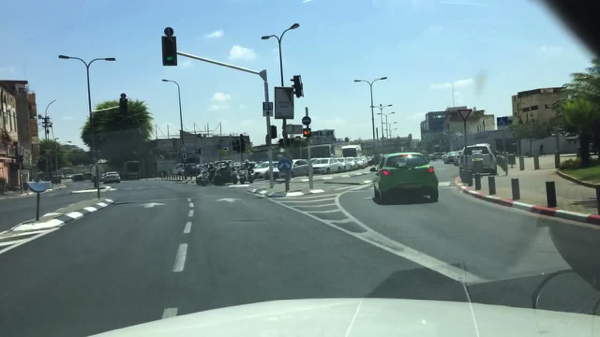car: (373, 152, 439, 203), (458, 144, 497, 176), (311, 157, 342, 174), (252, 162, 271, 180), (289, 159, 308, 177), (179, 165, 201, 176), (273, 162, 286, 179), (336, 158, 352, 171), (104, 172, 121, 184), (444, 151, 458, 164), (453, 150, 463, 167), (345, 157, 356, 171), (426, 152, 445, 159), (356, 157, 368, 168), (367, 156, 375, 167), (83, 172, 93, 180), (100, 172, 105, 180), (66, 174, 73, 179), (60, 175, 66, 179)
motor: (213, 168, 239, 186), (236, 166, 254, 184), (200, 170, 215, 186), (197, 170, 208, 184)
rider: (241, 159, 252, 182), (208, 162, 215, 183), (204, 163, 208, 176)
traffic light: (161, 36, 176, 66), (240, 134, 247, 152), (270, 125, 276, 139), (303, 128, 311, 138), (196, 148, 200, 155)
traffic sign: (274, 86, 294, 119), (285, 124, 302, 134), (263, 102, 273, 117), (120, 99, 128, 115), (164, 27, 173, 36), (301, 117, 311, 125), (183, 153, 188, 160), (182, 147, 185, 151)
truck: (122, 161, 141, 180), (172, 163, 185, 175)
